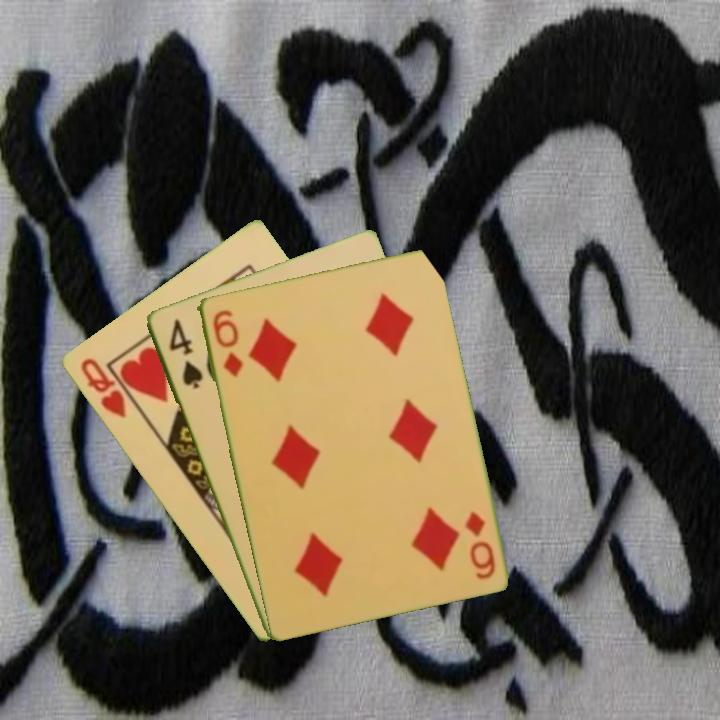4s: (165, 315, 205, 392)
6d: (208, 306, 246, 380), (461, 507, 498, 582)
Qh: (76, 354, 129, 422)
